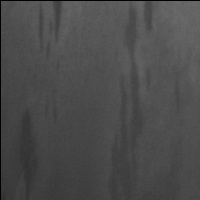inclusion: (110, 1, 156, 200), (12, 104, 42, 200), (30, 2, 65, 69), (157, 132, 191, 190), (139, 1, 157, 35)
